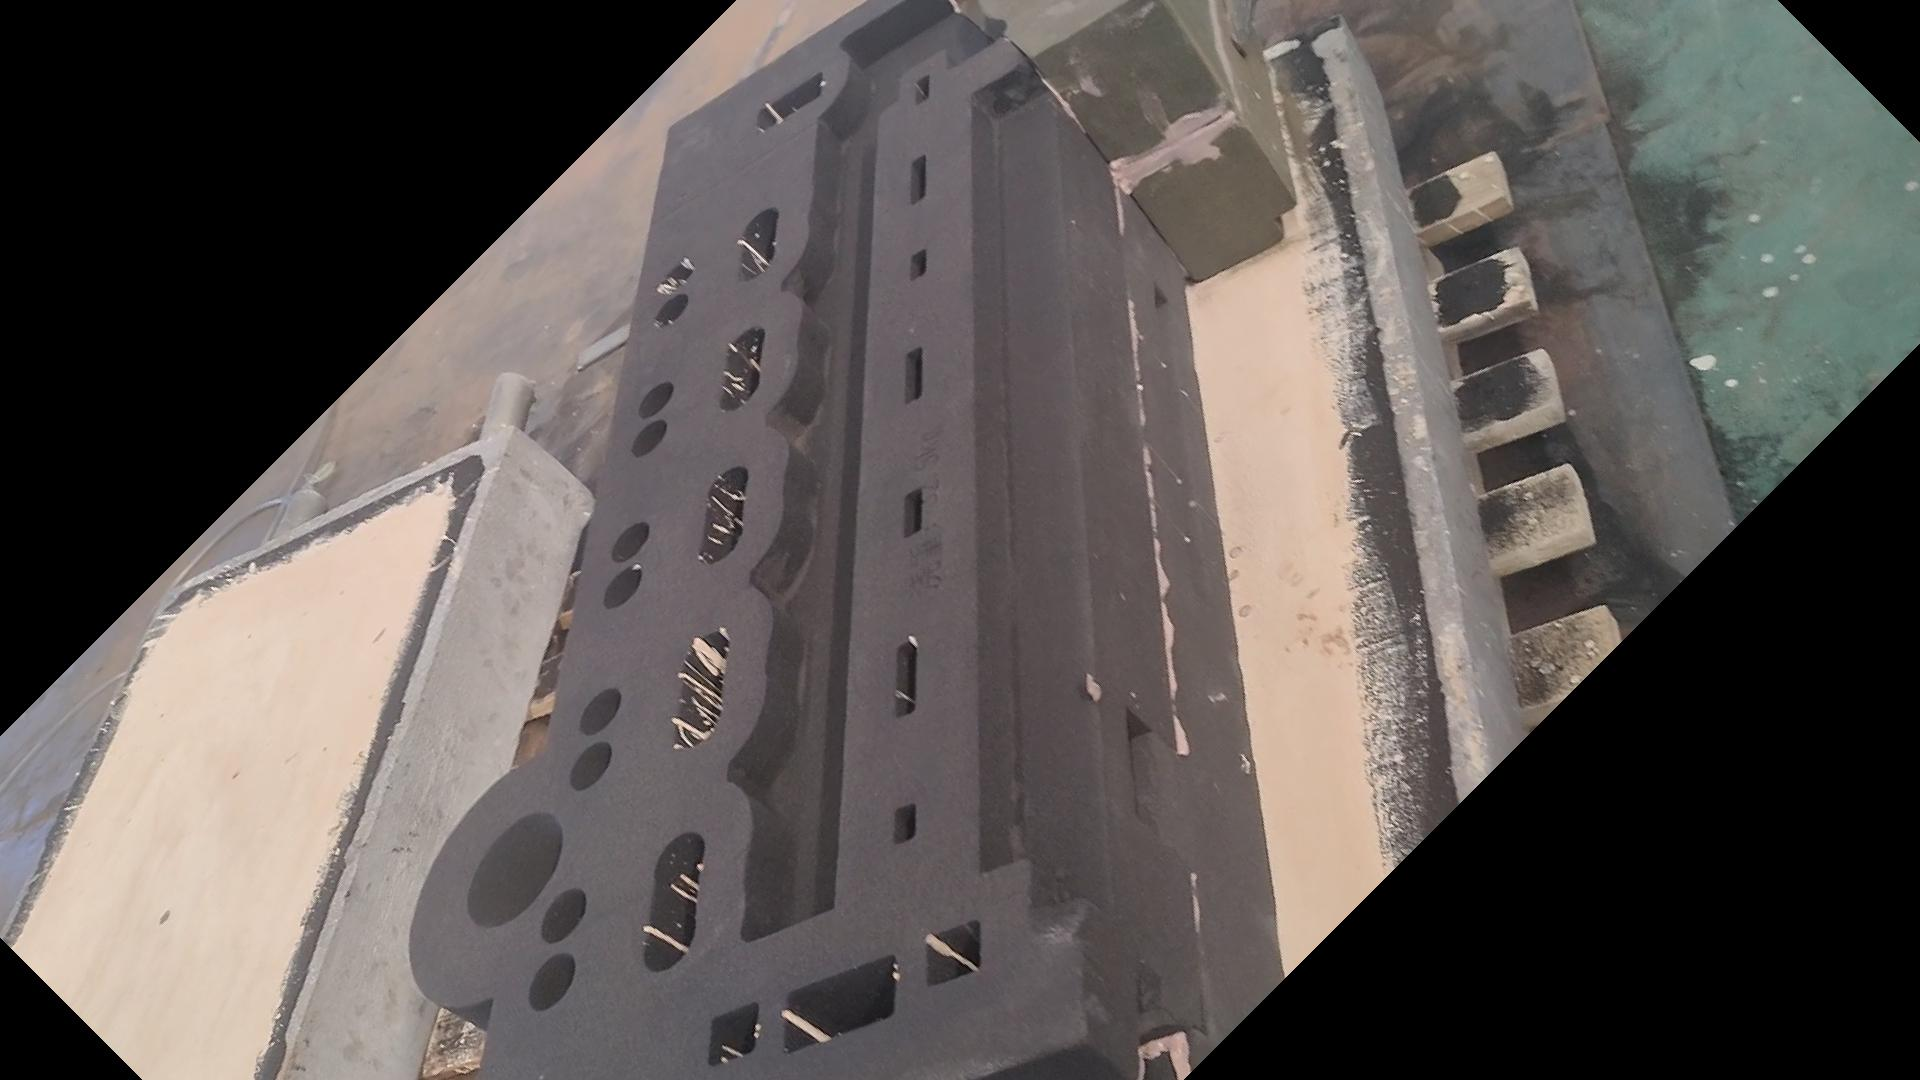pouring hole: (465, 812, 563, 927)
